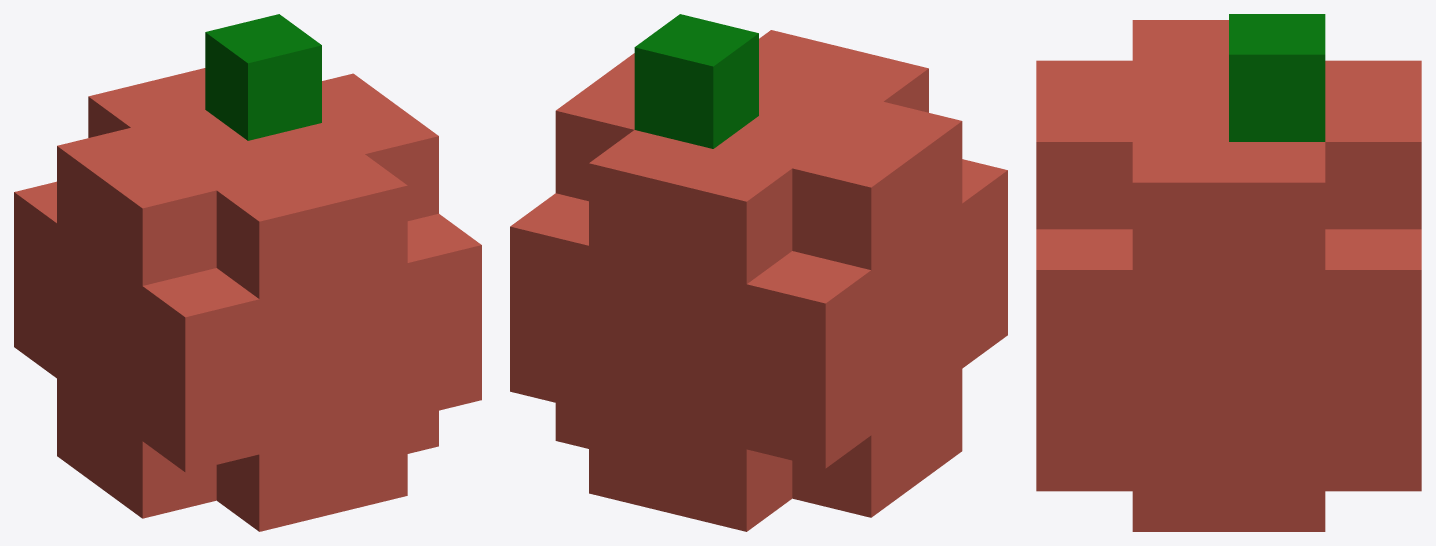
Rendered from Tomato.gltf.
3 views of the same model, side by side, from view 1: azimuth 30°, elevation 25°; view 2: azimuth 150°, elevation 25°; view 3: azimuth 270°, elevation 25° (orthographic). The views are drawn at different scales.
Parts seen in each view (by area): view 1: unnamed_mesh1; view 2: unnamed_mesh1; view 3: unnamed_mesh1.
Boxes of the visible parts, bbox=[...] form: unnamed_mesh1: bbox=[14, 14, 481, 531]; unnamed_mesh1: bbox=[510, 14, 1007, 531]; unnamed_mesh1: bbox=[1036, 14, 1421, 531].
Bounding box in the file's own units: 4 × 5 × 4.
Materials: 1 (1 with a texture image).
